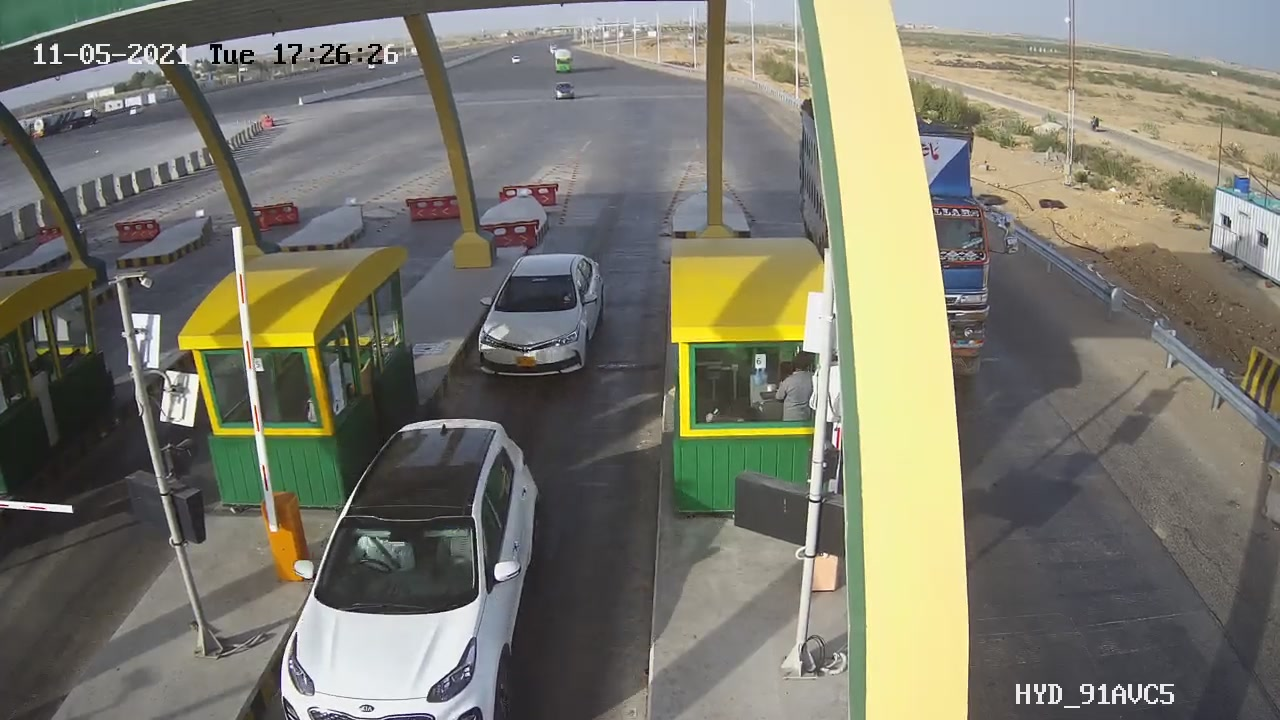F1: (464, 239, 622, 399)
